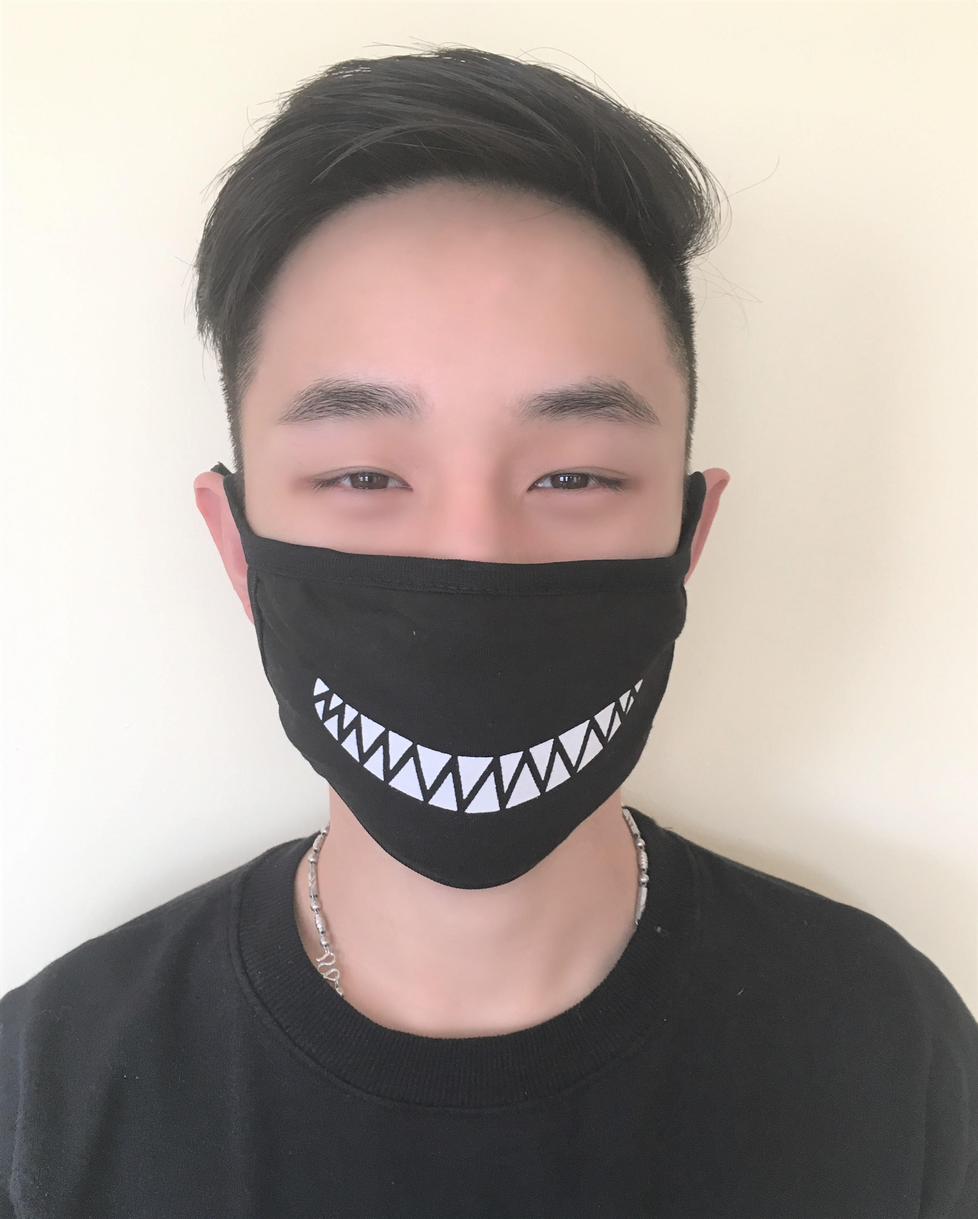Wearing Mask: (70, 0, 978, 974)
